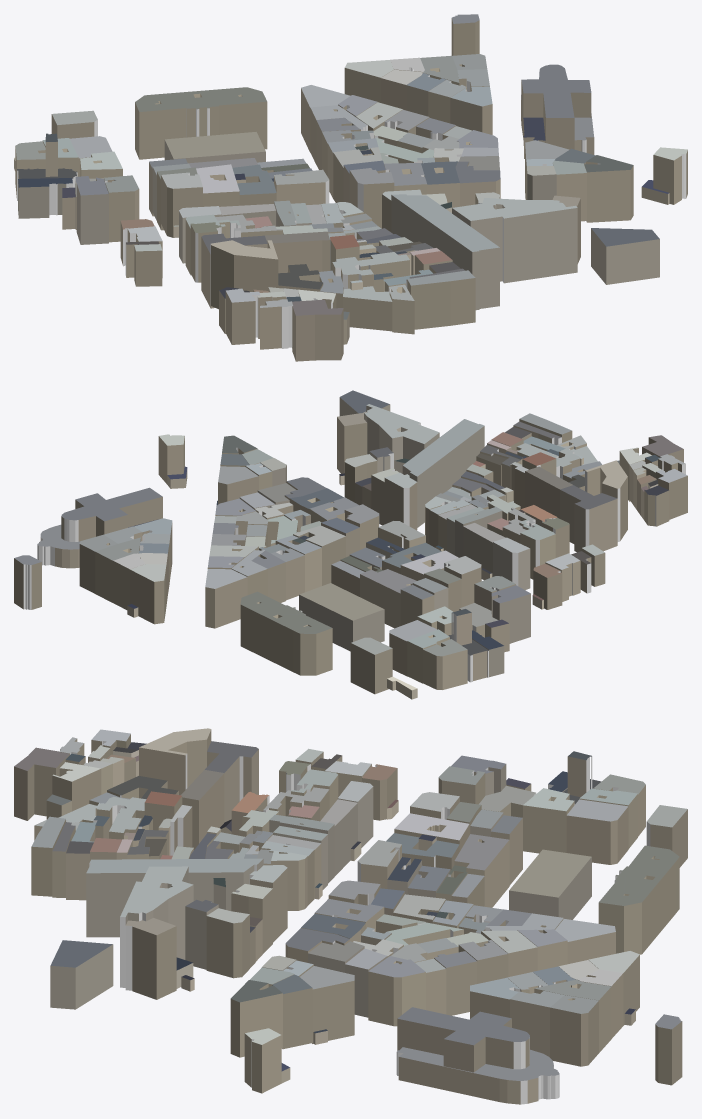
The picture shows the model from 3 angles, top to bottom: view 1: azimuth 30°, elevation 25°; view 2: azimuth 150°, elevation 25°; view 3: azimuth 270°, elevation 25°; orthographic projection. The views are drawn at different scales.
Visible parts, largest first — view 1: tuile; view 2: tuile; view 3: tuile.
Boxes of the visible parts, x1,y1,x2,y2 form: tuile: (14,14,687,361); tuile: (14,390,687,699); tuile: (14,728,687,1104).
Bounding box in the file's own units: 269 × 43.64 × 263.
